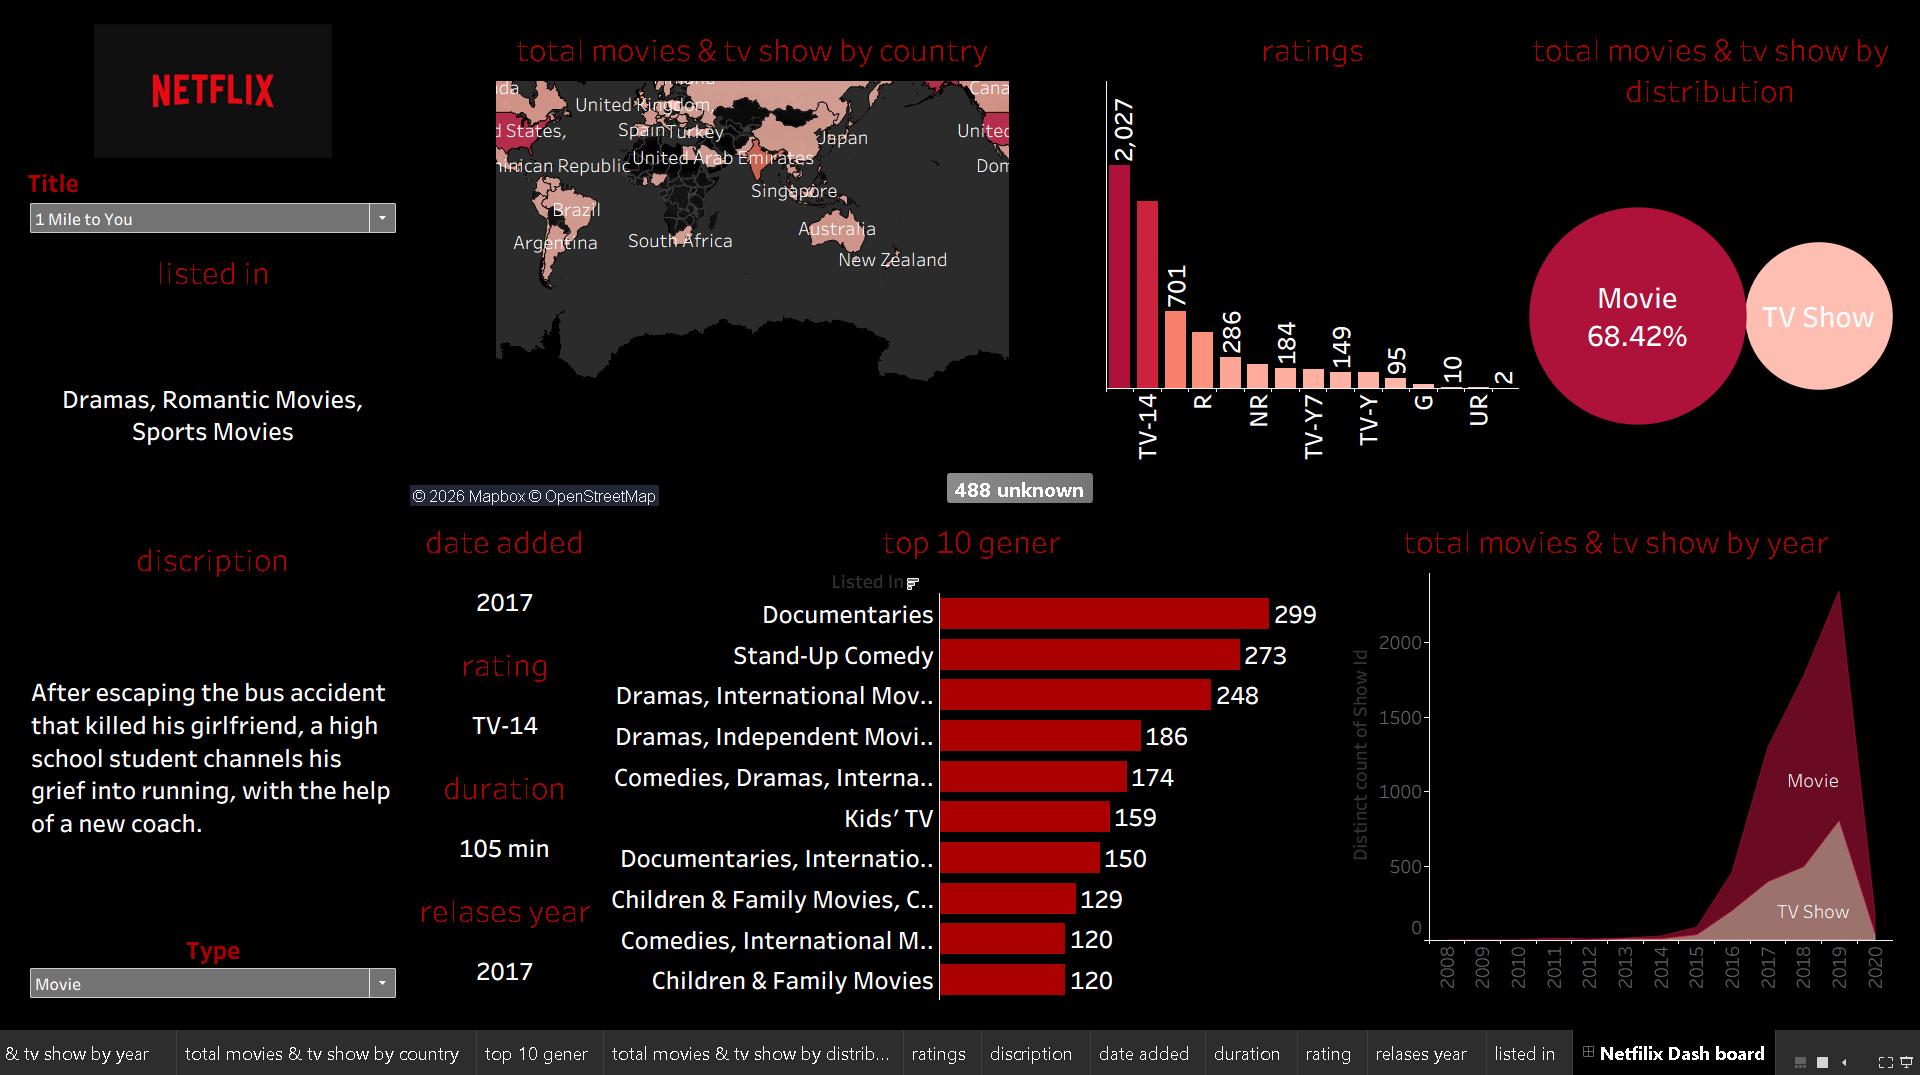

Layout of this report page (visuals, bound fields, positions):
{"tool":"tableau","page":{"name":"Netfilix Dash board","canvas":[1890,1000],"ordinal":0},"visuals":[{"type":"image","param":"Image/images.png","box":[8,8,380,141.8]},{"type":"worksheet","title":"total movies & tv show by country","mark":"Multipolygon","box":[388,8,699,492]},{"type":"worksheet","title":"ratings","mark":"Automatic","rows":["show_id"],"cols":["rating"],"box":[1087,8,421.5,492]},{"type":"worksheet","title":"total movies & tv show by distribution","mark":"Circle","box":[1508.5,8,373.5,492]},{"type":"filter","title":"discription","param":"[federated.08nspol0vk86z61g34xka080xocz].[none:title:nk]","box":[8,149.8,380,81.2]},{"type":"worksheet","title":"listed in","mark":"Automatic","box":[8,231,380,287]},{"type":"worksheet","title":"date added","mark":"Automatic","box":[388,500,204,123]},{"type":"worksheet","title":"top 10 gener","mark":"Automatic","rows":["listed_in"],"cols":["show_id"],"box":[592,500,729,492]},{"type":"worksheet","title":"total movies & tv show by year","mark":"Area","rows":["show_id"],"cols":["date_added"],"box":[1321,500,561,492]},{"type":"worksheet","title":"discription","mark":"Automatic","box":[8,518,380,399]},{"type":"worksheet","title":"rating","mark":"Automatic","box":[388,623,204,123]},{"type":"worksheet","title":"duration","mark":"Automatic","box":[388,746,204,123]},{"type":"worksheet","title":"relases year","mark":"Automatic","box":[388,869,204,123]},{"type":"filter","title":"discription","param":"[federated.08nspol0vk86z61g34xka080xocz].[none:type:nk]","box":[8,917,380,75]}]}

Visuals, with their boxes on the page's 1890x1000 design canvas (x1, y1, x2, y2). These are canvas units, not pixel positions in the 1920x1075 screenshot, which may show the page scaled, cropped or inside an application window:
image: l=8, t=8, r=388, b=150
"total movies & tv show by country" worksheet (Multipolygon marks): l=388, t=8, r=1087, b=500
"ratings" worksheet: l=1087, t=8, r=1508, b=500
"total movies & tv show by distribution" worksheet (Circle marks): l=1508, t=8, r=1882, b=500
"discription" filter: l=8, t=150, r=388, b=231
"listed in" worksheet: l=8, t=231, r=388, b=518
"date added" worksheet: l=388, t=500, r=592, b=623
"top 10 gener" worksheet: l=592, t=500, r=1321, b=992
"total movies & tv show by year" worksheet (Area marks): l=1321, t=500, r=1882, b=992
"discription" worksheet: l=8, t=518, r=388, b=917
"rating" worksheet: l=388, t=623, r=592, b=746
"duration" worksheet: l=388, t=746, r=592, b=869
"relases year" worksheet: l=388, t=869, r=592, b=992
"discription" filter: l=8, t=917, r=388, b=992
